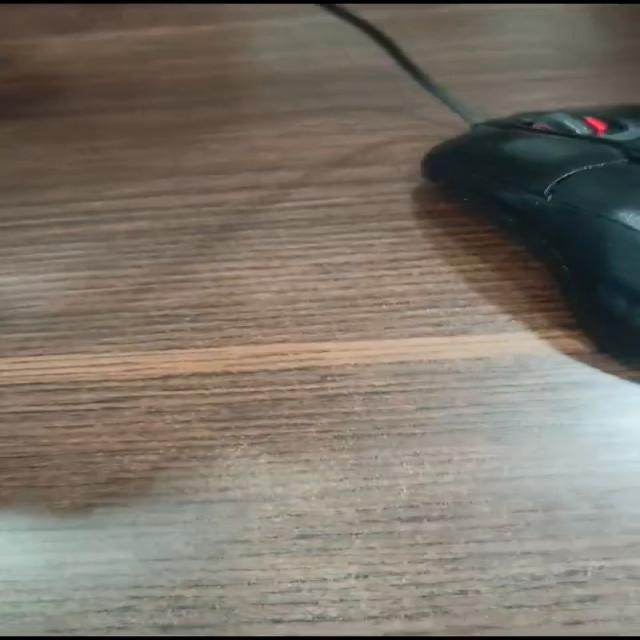mouse: (320, 56, 640, 400)
